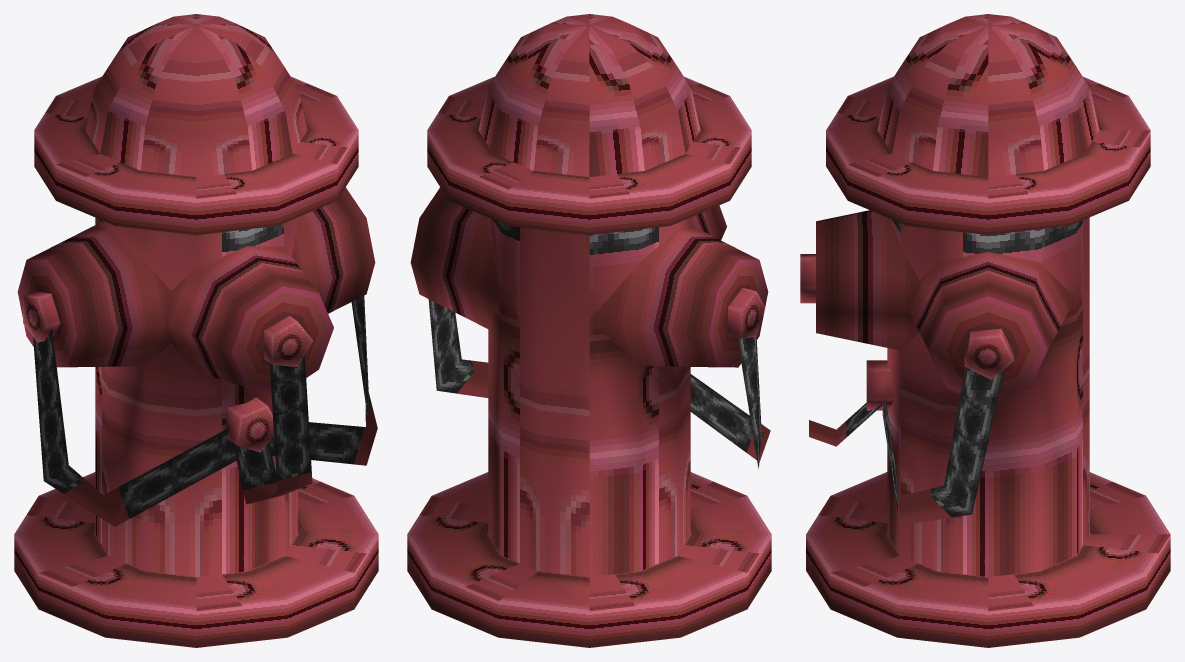
The model's file is int_oth_fireplug.dae.
3 renders of one model, left to right at view 1: azimuth 30°, elevation 25°; view 2: azimuth 150°, elevation 25°; view 3: azimuth 270°, elevation 25°, orthographic.
Parts seen in each view (by area): view 1: int_oth_fireplug; view 2: int_oth_fireplug; view 3: int_oth_fireplug.
Boxes of the visible parts, box(x1,y1,x2,y2) form: int_oth_fireplug: box(14, 14, 378, 647); int_oth_fireplug: box(407, 14, 771, 647); int_oth_fireplug: box(800, 14, 1170, 647).
Bounding box in the file's own units: 20.82 × 33.37 × 20.51.
Materials: 1 (1 with a texture image).
